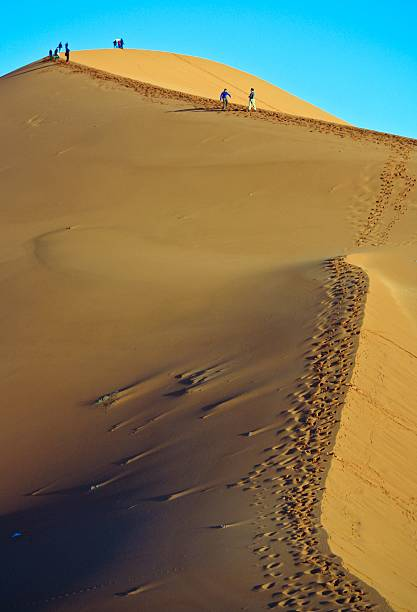animal_footprint: (234, 257, 387, 610)
